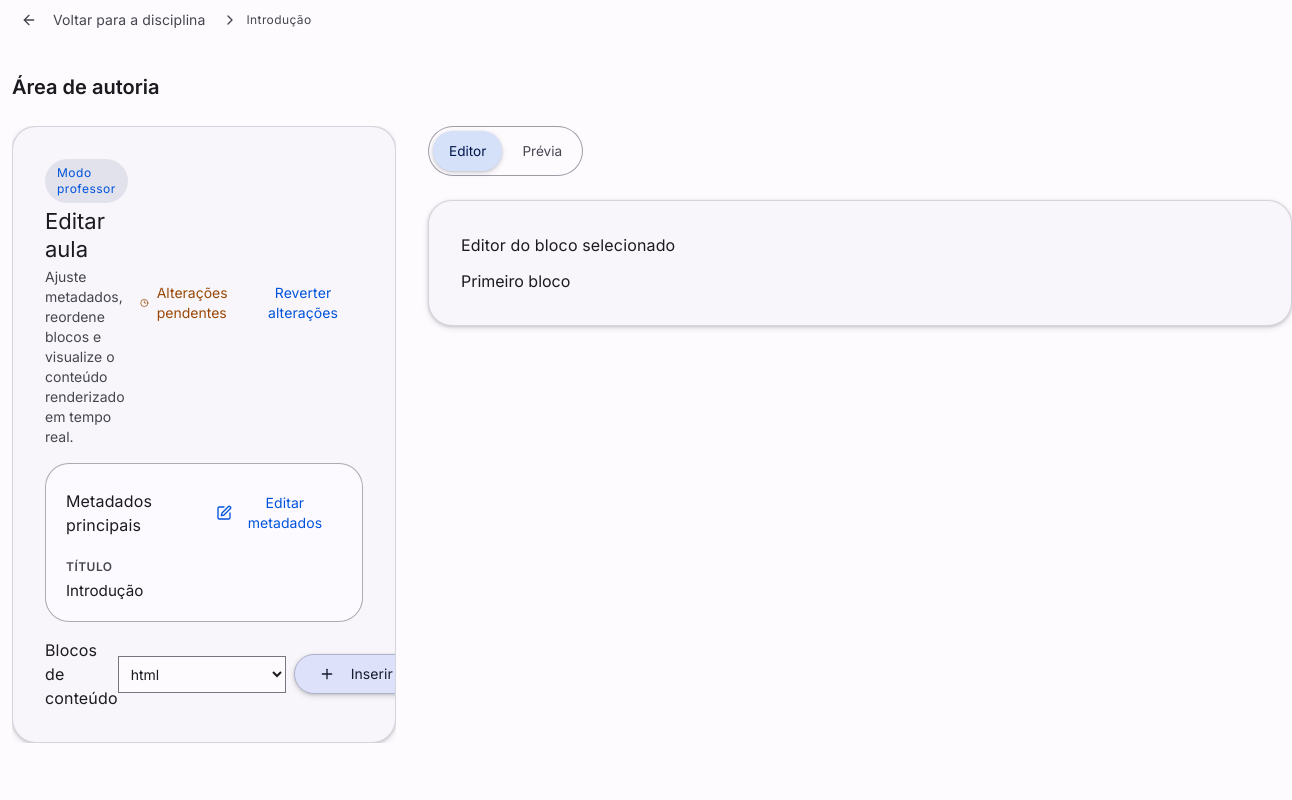
it: LessonView component › permite alternar para visualizar a prévia da lição
This screenshot has width=1292, height=800.
Click the button with test id "teacher-workspace-tab-preview" at (542,151), box x1=506 y1=131 x2=578 y2=171
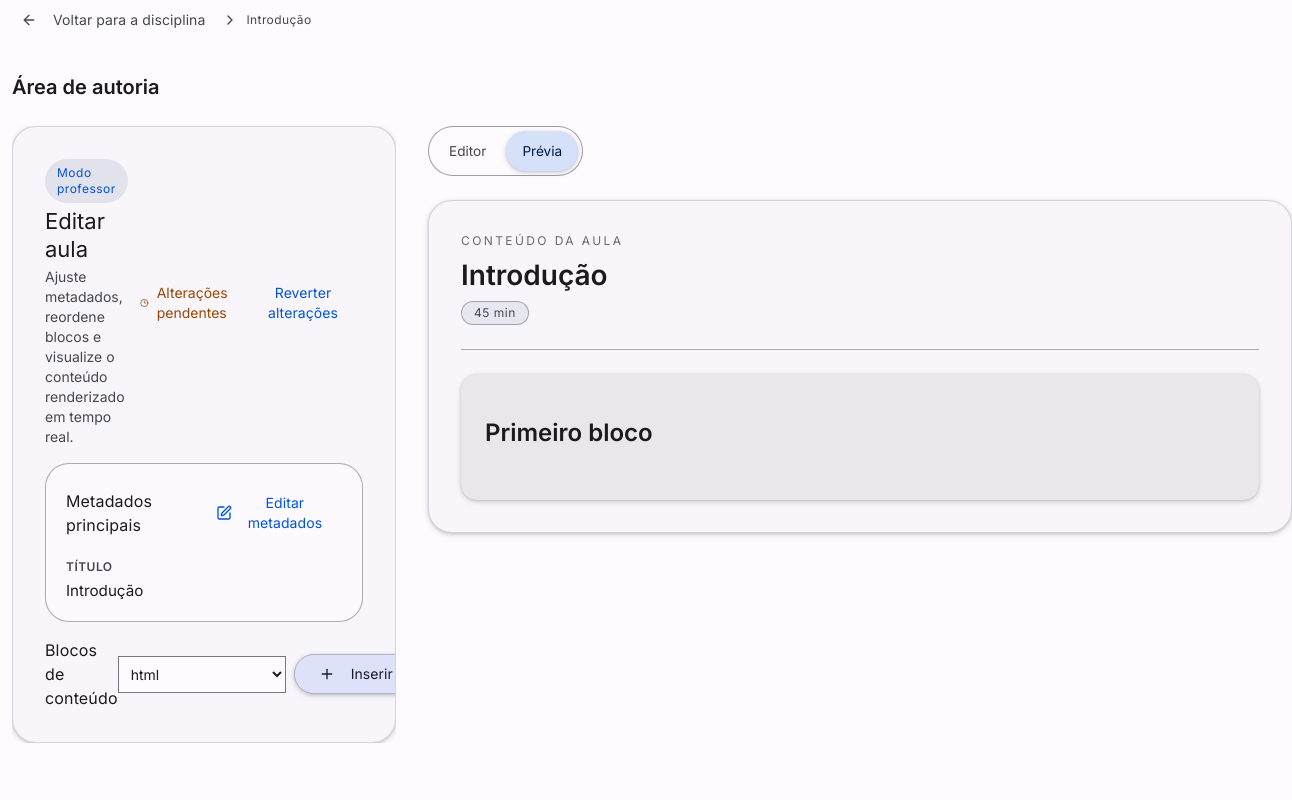
Expected: the element with class "lesson-content" is shown, x1=461 y1=374 x2=1259 y2=500
Expected: the element with class "teacher-preview-shell" is shown, x1=428 y1=200 x2=1291 y2=533
